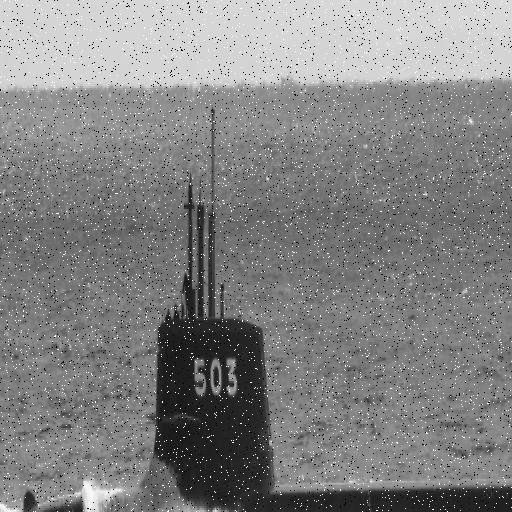submarine: (18, 104, 512, 512)
